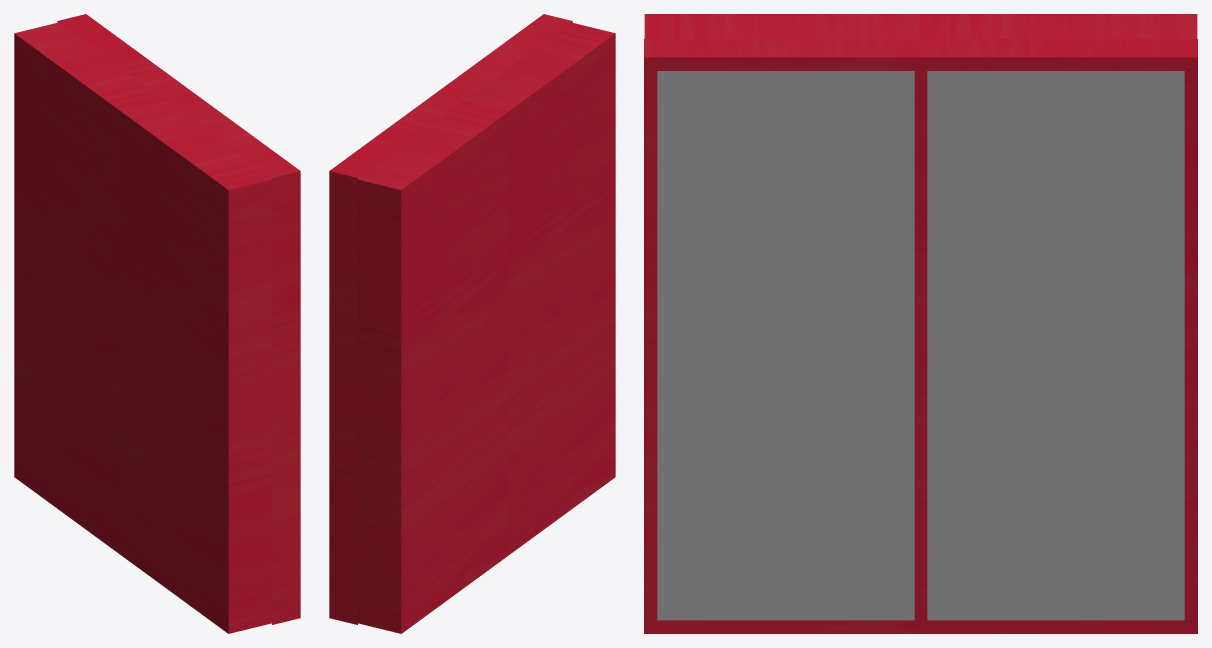
File: Wall_Window_Office 1.fbx
The picture shows the model from 3 angles, left to right: view 1: azimuth 30°, elevation 25°; view 2: azimuth 150°, elevation 25°; view 3: azimuth 270°, elevation 25°; orthographic projection. The views are drawn at different scales.
Parts seen in each view (by area): view 1: Wall_Window; view 2: Wall_Window; view 3: Window, Wall_Window.
Boxes of the visible parts, box(x1,y1,x2,y2) form: Wall_Window: box(14, 14, 300, 633); Wall_Window: box(329, 14, 615, 633); Window: box(657, 71, 1184, 620); Wall_Window: box(644, 14, 1197, 633).
Bounding box in the file's own units: 35.58 × 211 × 183.
